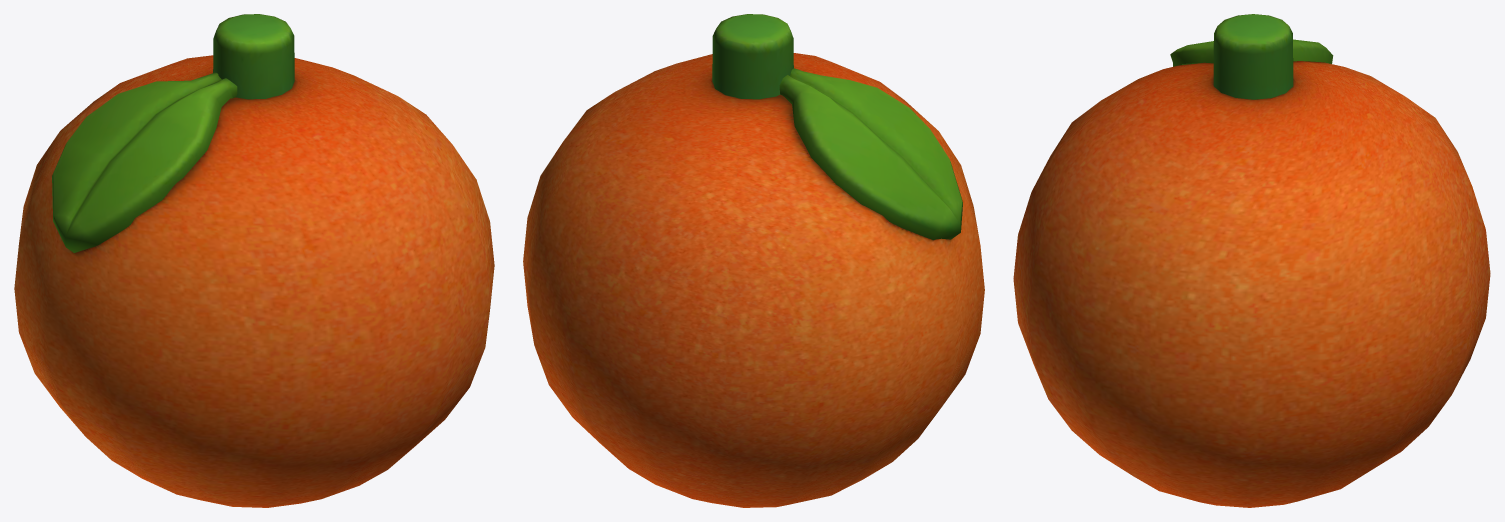
Rendered from 0-orange.fbx.
3 views of the same model, side by side, from view 1: azimuth 30°, elevation 25°; view 2: azimuth 150°, elevation 25°; view 3: azimuth 270°, elevation 25° (orthographic).
Visible parts, largest first — view 1: 0-orange; view 2: 0-orange; view 3: 0-orange.
Part boxes in pixels (left/top/right/bottom): 0-orange: left=14, top=14, right=494, bottom=507; 0-orange: left=523, top=14, right=984, bottom=507; 0-orange: left=1013, top=14, right=1490, bottom=507.
Size of the model in its own units: 90.57 by 96.96 by 91.07.
